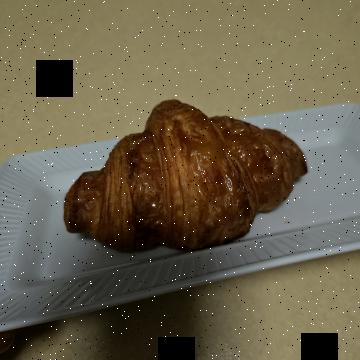croissant: (93, 44, 271, 309)
